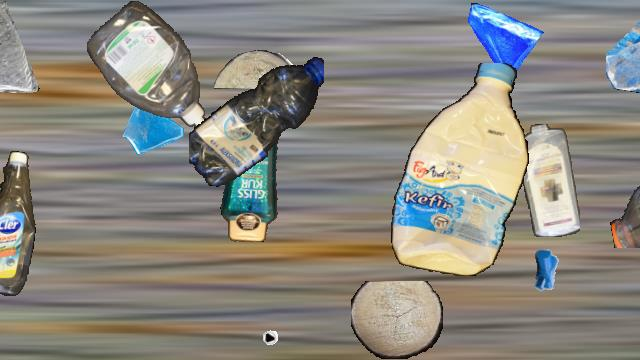glass: (462, 1, 544, 83), (121, 94, 187, 160), (0, 1, 45, 93), (606, 1, 640, 93)
metal: (516, 241, 578, 303), (225, 290, 285, 350)
plastic: (387, 63, 529, 275), (189, 50, 323, 190), (87, 1, 207, 131), (216, 99, 288, 241), (519, 124, 579, 236), (0, 151, 36, 295), (605, 108, 640, 248)
wood: (351, 281, 443, 359), (214, 50, 298, 88)
